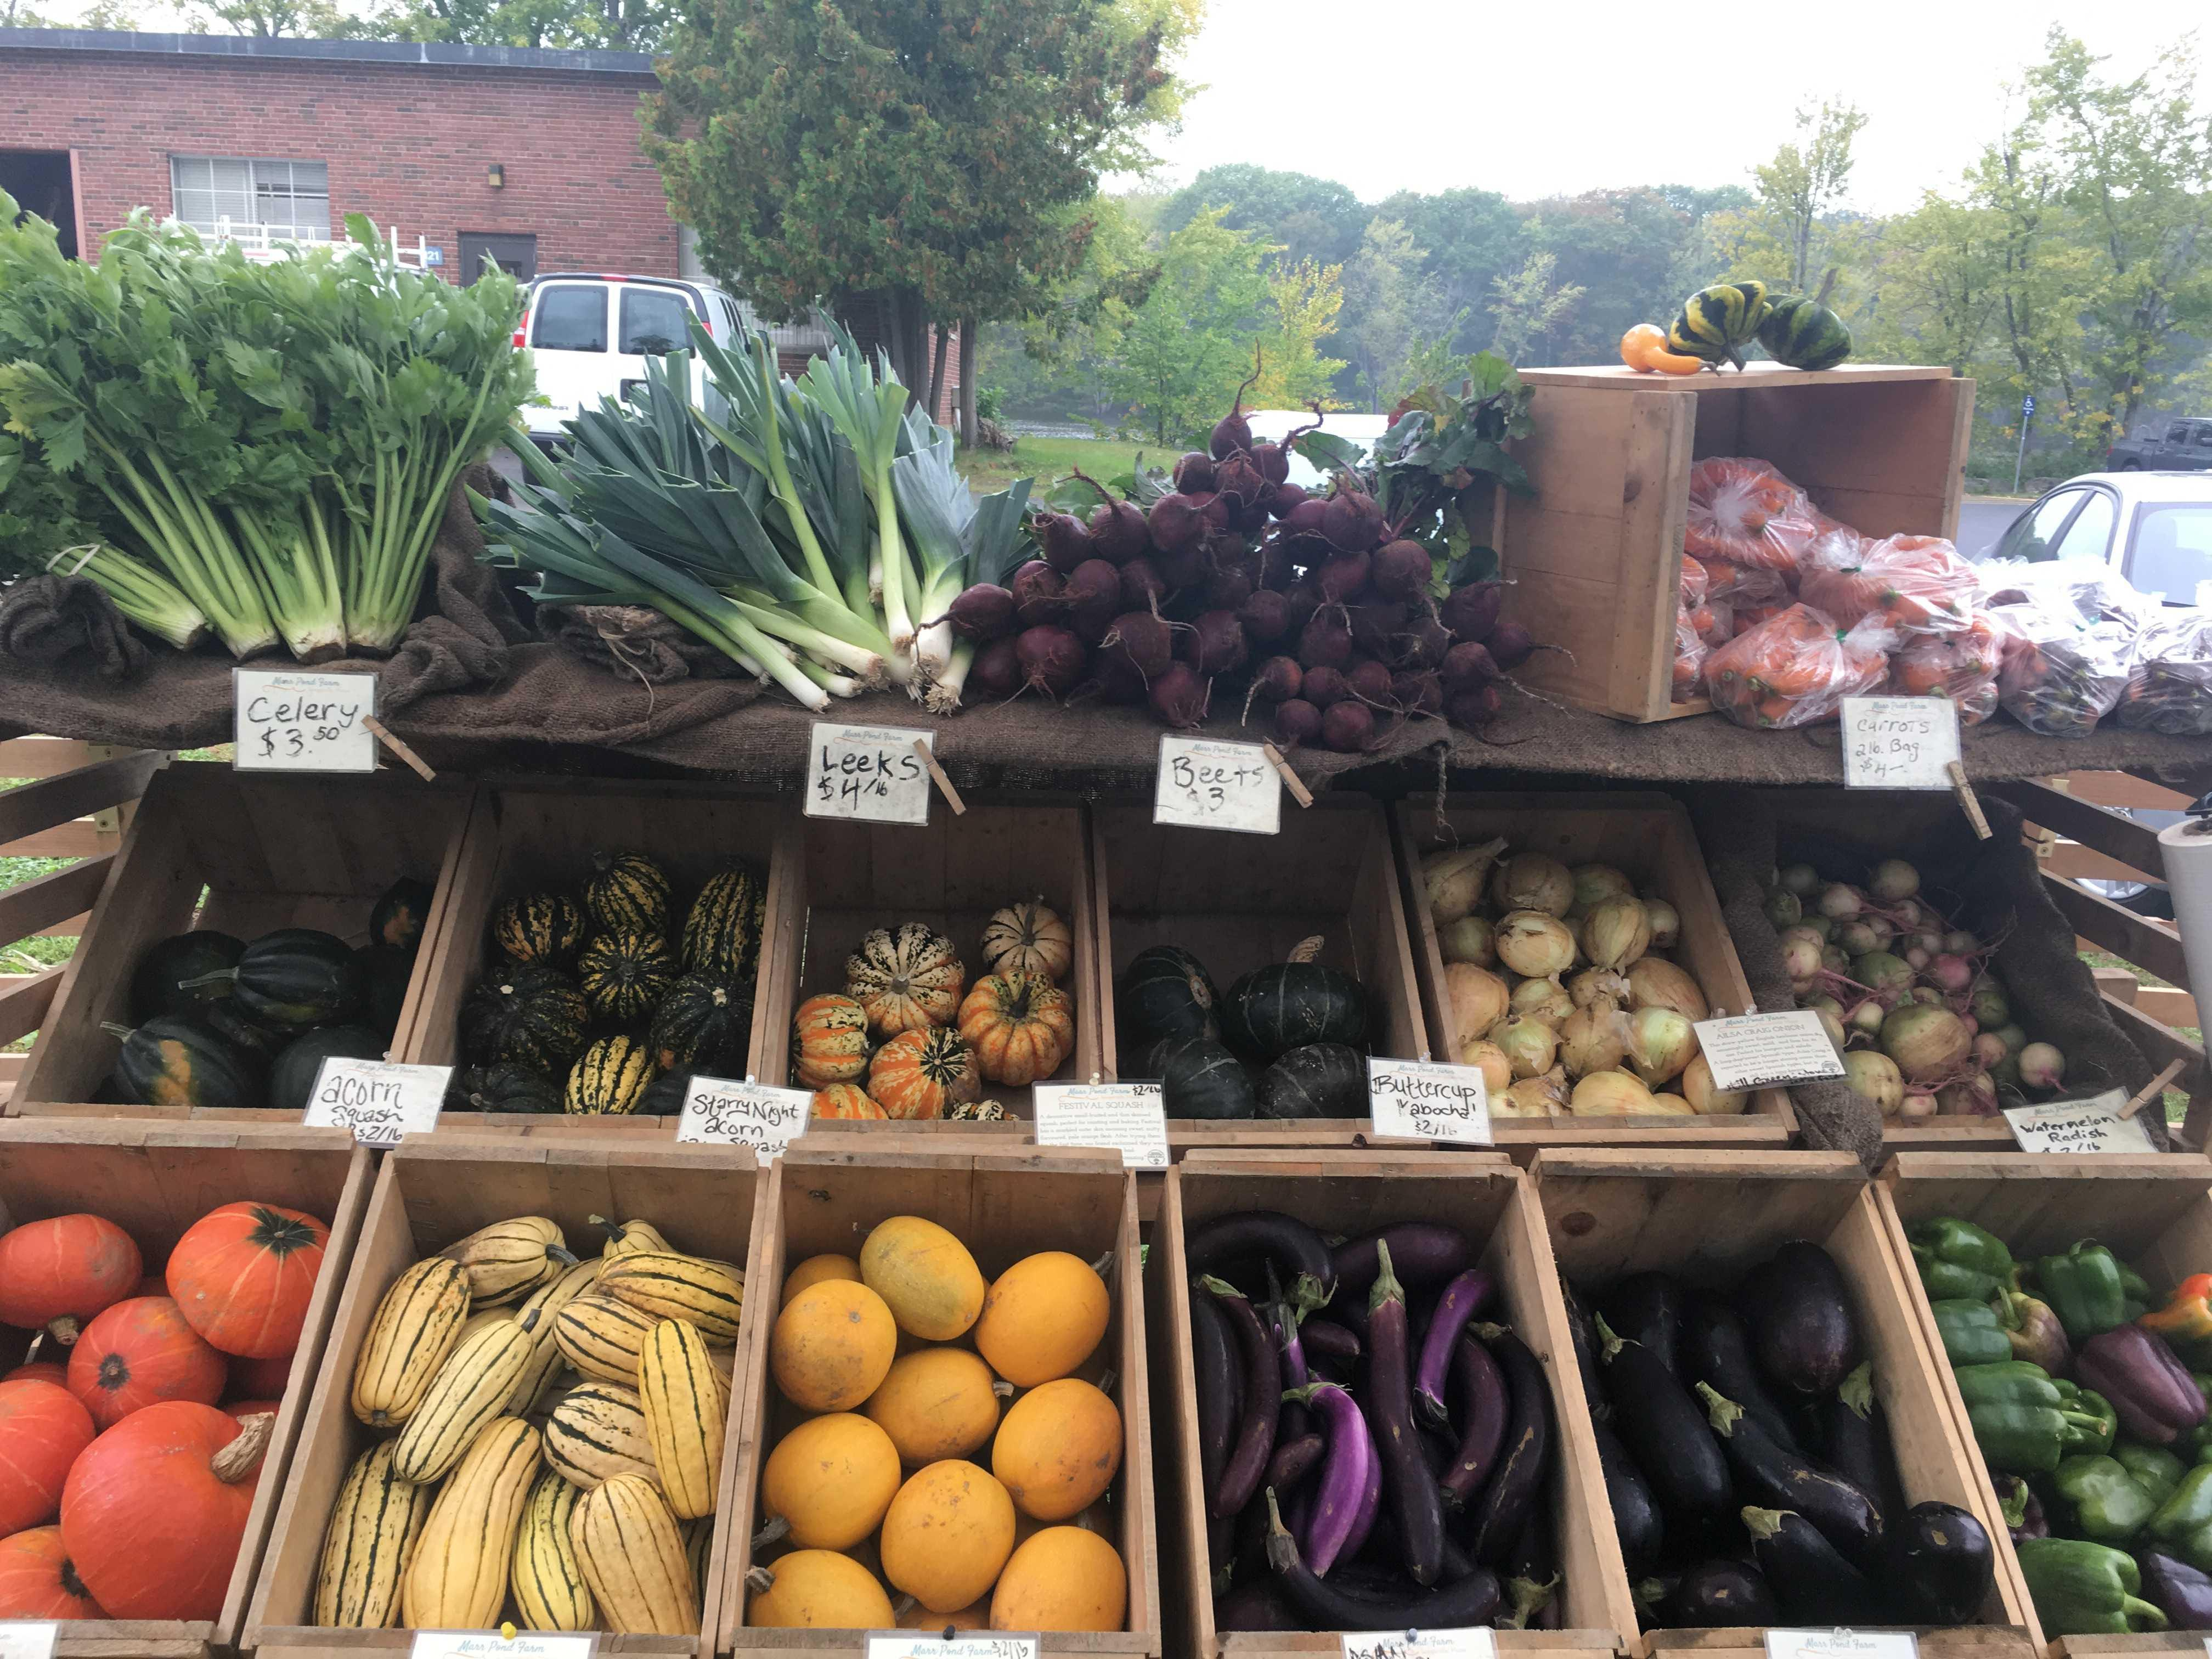beet: (971, 422, 1531, 726)
butternut squash: (284, 1165, 768, 1650)
carrot: (1683, 454, 2001, 742)
eggplant: (1167, 1169, 1995, 1640)
melon: (748, 1174, 1128, 1639)
onion: (1423, 814, 1757, 1141)
pumpkin: (0, 1141, 338, 1617)
sweet pepper: (1915, 1172, 2212, 1631)
